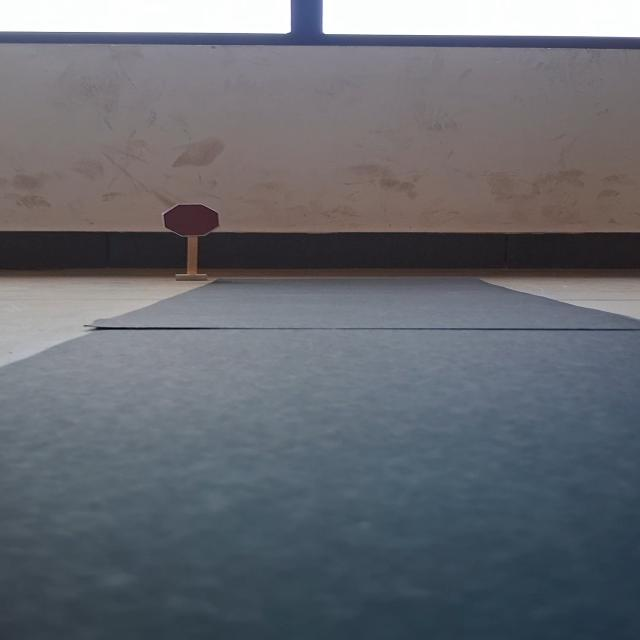Stop: (162, 204, 221, 237)
